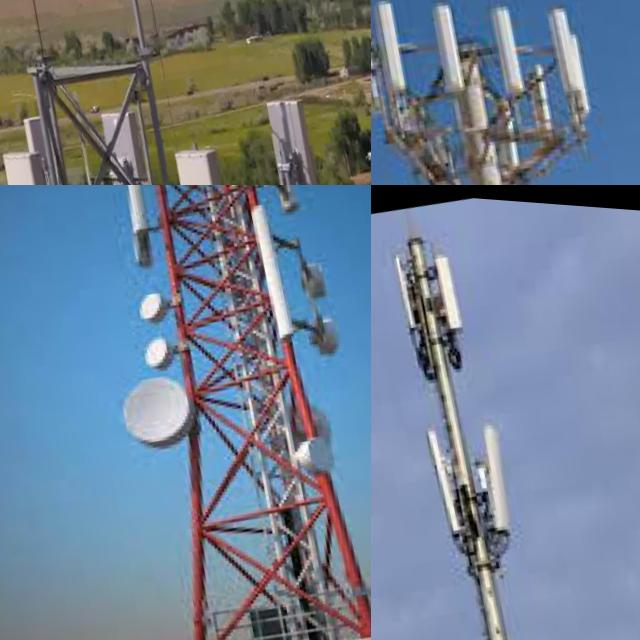GSM Antenna: (247, 78, 371, 185), (83, 83, 211, 185), (245, 191, 304, 339), (418, 413, 477, 549), (470, 412, 527, 531), (528, 0, 589, 104), (425, 0, 483, 108), (15, 105, 92, 185), (482, 0, 533, 95), (371, 0, 416, 99), (383, 238, 423, 341), (426, 236, 468, 332), (106, 185, 161, 234)
Microwave Antenna: (105, 351, 224, 474), (135, 317, 193, 378), (292, 413, 344, 476), (307, 306, 348, 359), (135, 274, 174, 326), (301, 249, 341, 296)
